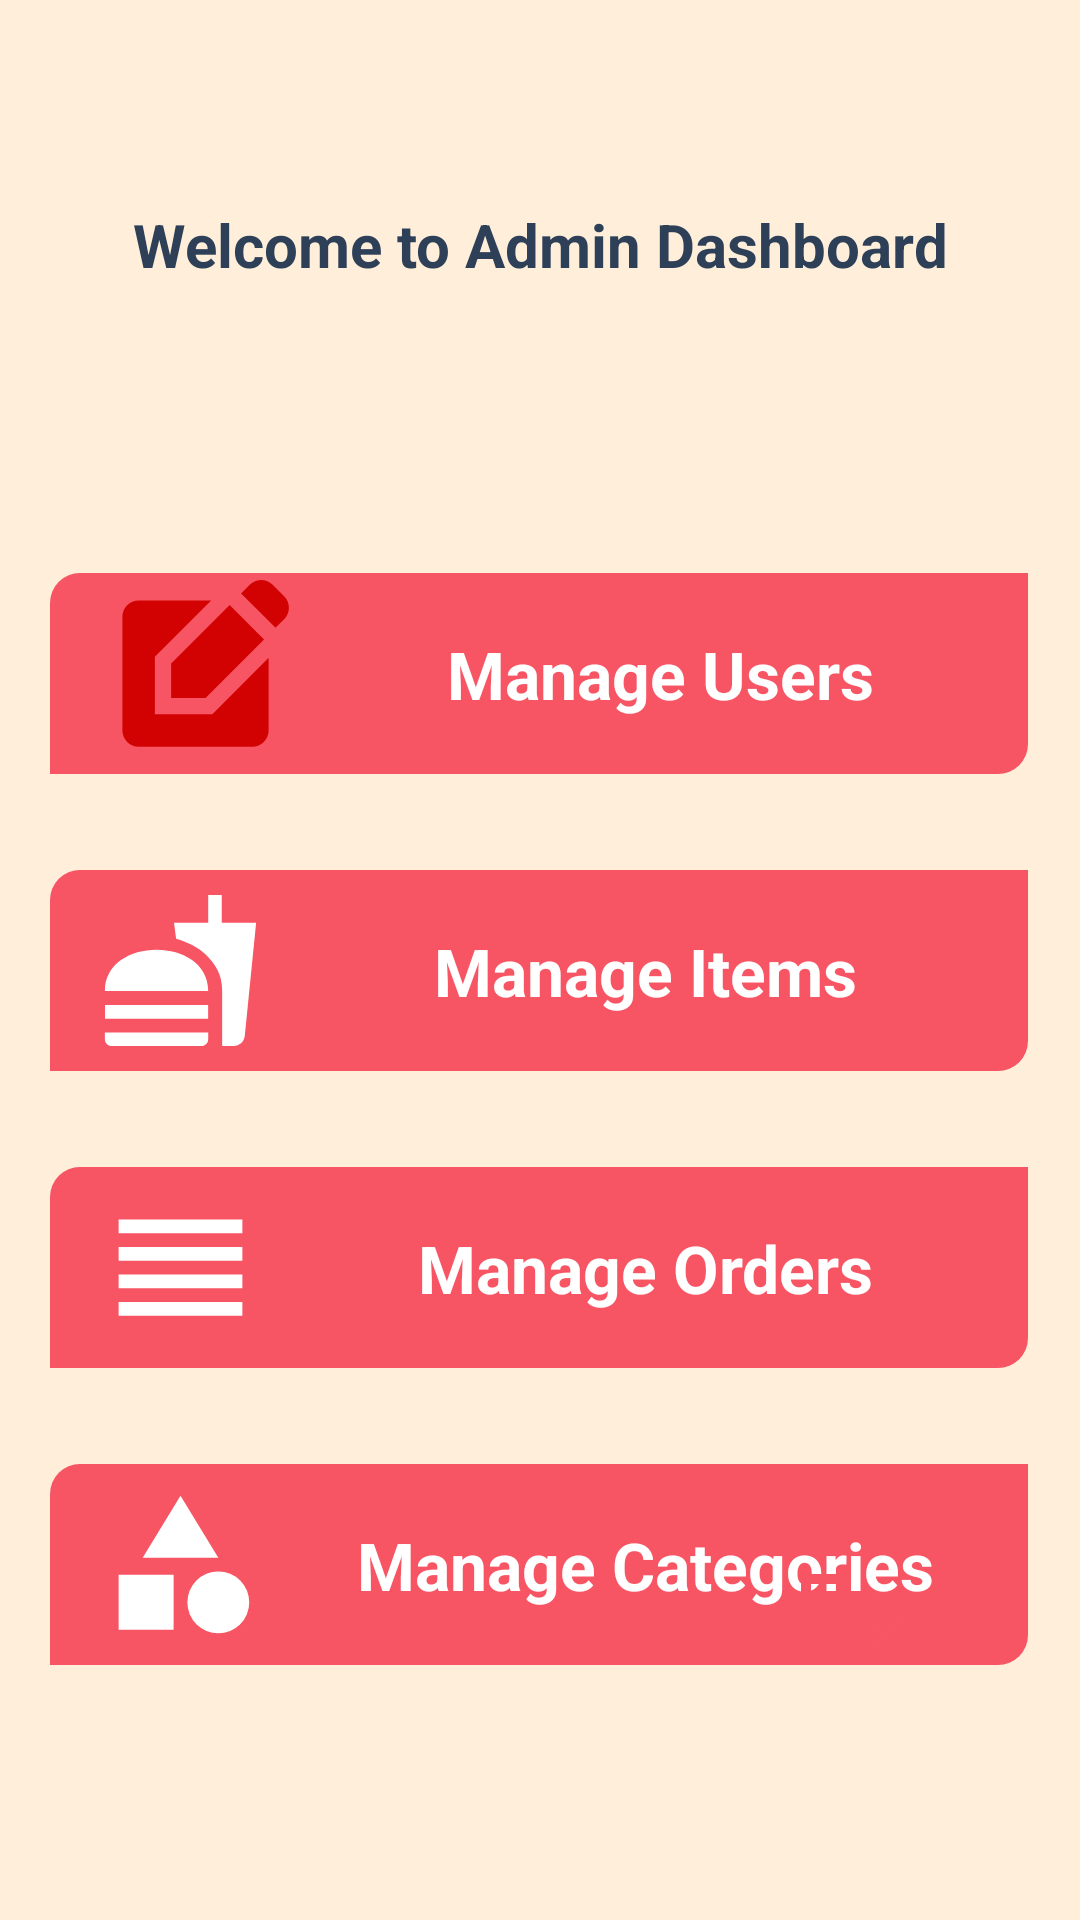

Where icons sit on this 1080 x 1920 app screen, as (x1, y1, x2, y2):
category: (118, 1496, 250, 1634)
edit square: (122, 580, 289, 747)
fastfood: (105, 895, 256, 1046)
reorder: (118, 1219, 243, 1316)
